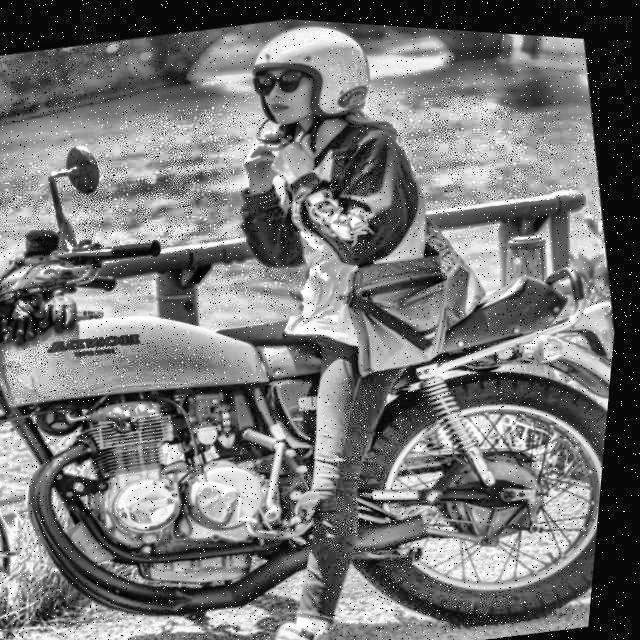Helmet: (236, 12, 392, 152)
